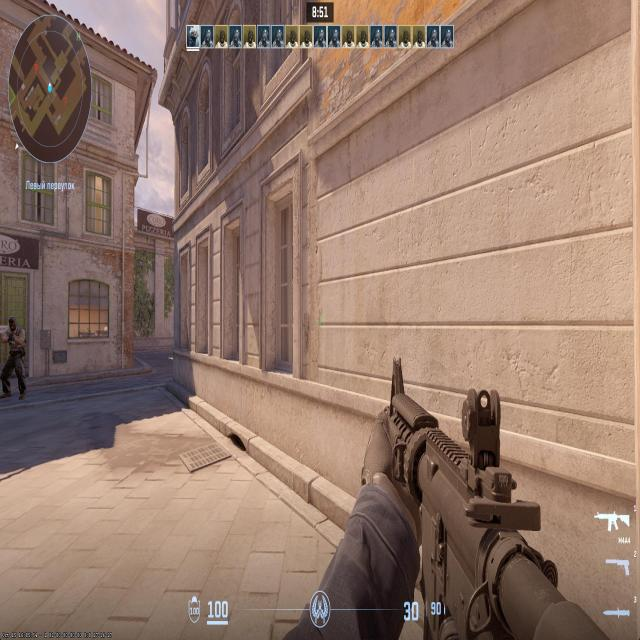T: (3, 317, 24, 392)
T_heat: (9, 318, 16, 333)
